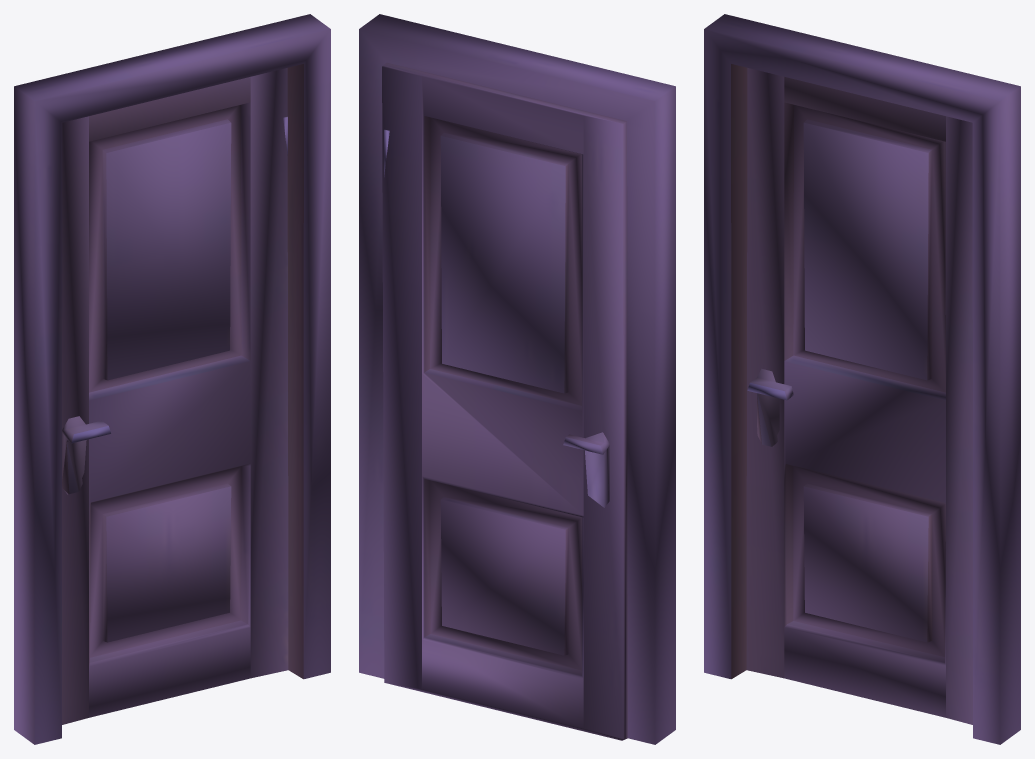
Rendered from model.progressive.glb.
The picture shows the model from 3 angles, left to right: view 1: azimuth 30°, elevation 25°; view 2: azimuth 150°, elevation 25°; view 3: azimuth 330°, elevation 25°; orthographic projection.
Visible parts, largest first — view 1: material; view 2: material; view 3: material.
Part boxes in pixels (left/top/right/bottom): material: left=14, top=14, right=330, bottom=744; material: left=359, top=14, right=675, bottom=744; material: left=704, top=14, right=1020, bottom=744.
Size of the model in its own units: 0.912 by 1.89 by 0.1764.
1 material, 1 textured.
